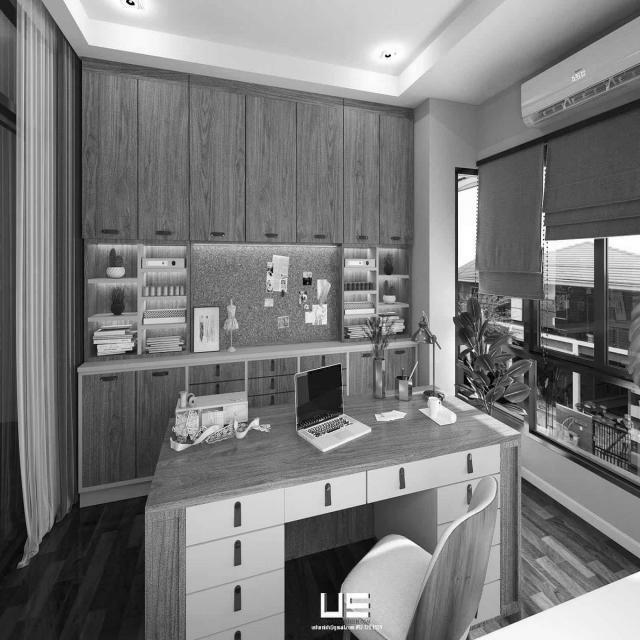table: (138, 380, 517, 543)
